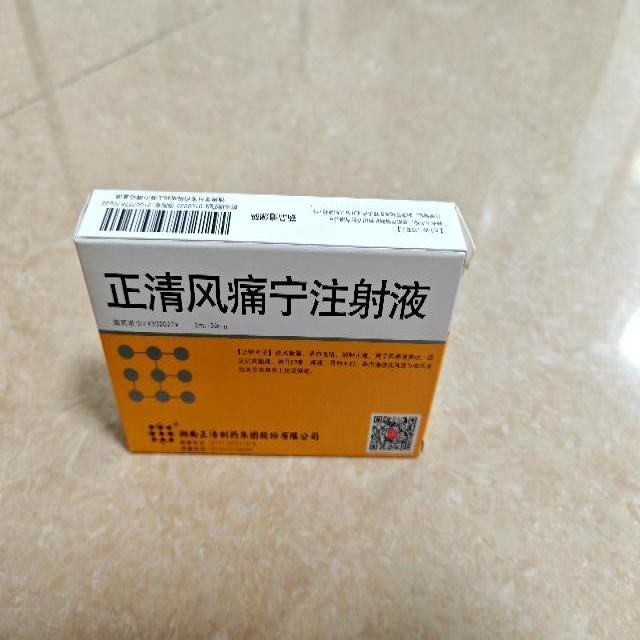box: (72, 187, 468, 458)
